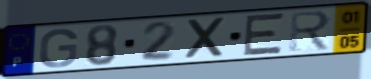2: (140, 20, 177, 63)
8: (85, 23, 119, 67)
E: (241, 11, 287, 58)
G: (37, 27, 80, 69)
R: (288, 9, 333, 53)
X: (185, 15, 230, 62)
